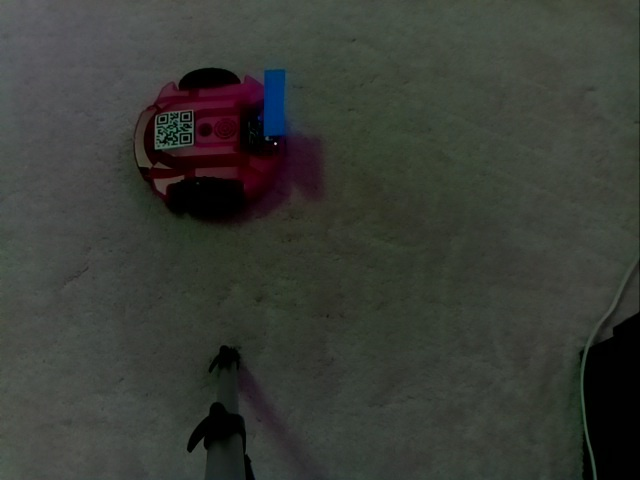chassis: (133, 64, 291, 215)
qr: (148, 108, 199, 154)
